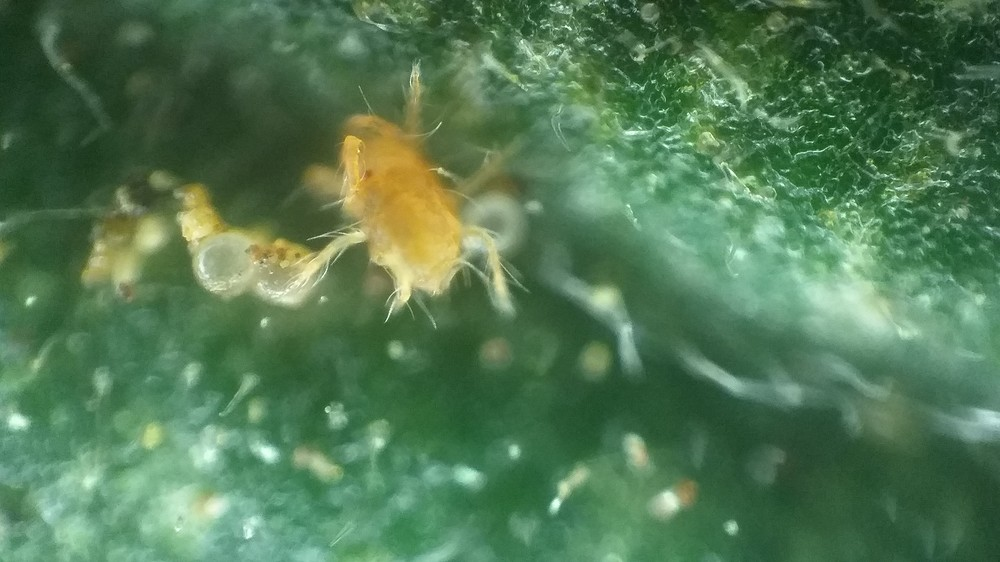Aracnido Rojo: (273, 80, 539, 349)
